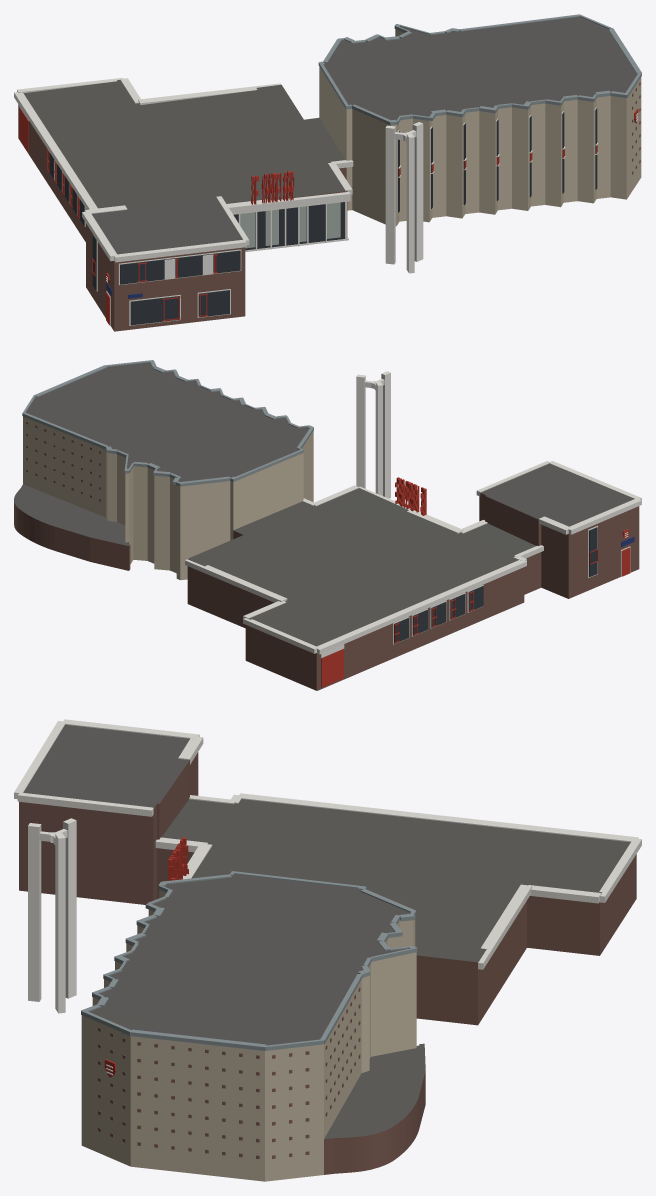
Rendered from de-kandelaar-vening-meineszlaan.glb.
The picture shows the model from 3 angles, top to bottom: view 1: azimuth 30°, elevation 25°; view 2: azimuth 150°, elevation 25°; view 3: azimuth 270°, elevation 25°; orthographic projection. The views are drawn at different scales.
Visible parts, largest first — view 1: de-kandelaar-vening-meineszlaan; view 2: de-kandelaar-vening-meineszlaan; view 3: de-kandelaar-vening-meineszlaan.
Part boxes in pixels (bbox=[...]): de-kandelaar-vening-meineszlaan: bbox=[14, 14, 641, 331]; de-kandelaar-vening-meineszlaan: bbox=[14, 360, 641, 690]; de-kandelaar-vening-meineszlaan: bbox=[14, 719, 641, 1181].
Bounding box in the file's own units: 49.25 × 11 × 35.79.
